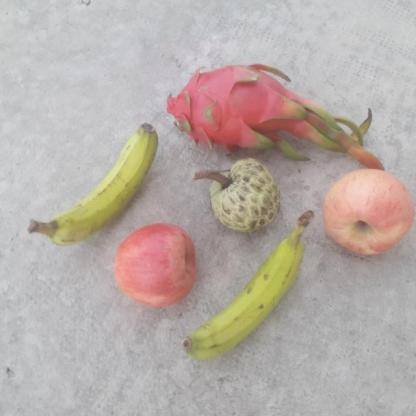annona: (192, 157, 281, 236)
apple: (318, 168, 416, 263), (112, 223, 197, 309)
banana: (175, 207, 318, 364), (23, 121, 158, 250)
pitaya: (162, 56, 309, 155)
